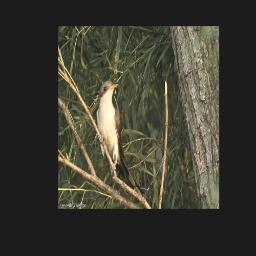Cuckoo: (95, 79, 145, 201)
